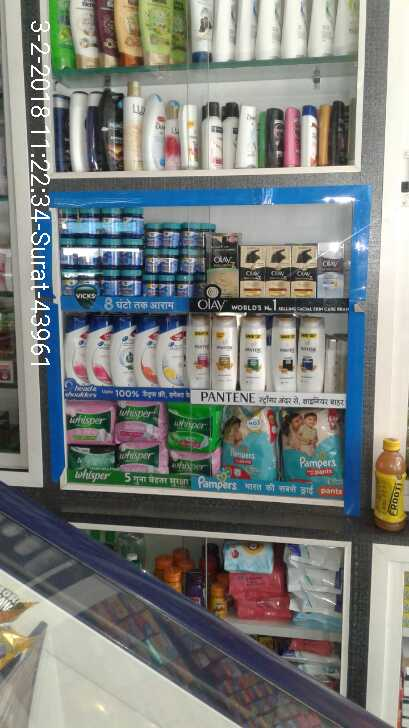beauty: (161, 317, 190, 388), (210, 234, 241, 299), (83, 320, 112, 388), (239, 317, 266, 389), (61, 314, 87, 386), (114, 316, 136, 389), (313, 244, 343, 297), (138, 315, 160, 384), (239, 245, 265, 303), (213, 320, 235, 386), (189, 317, 210, 386), (266, 244, 290, 298), (293, 246, 315, 301)
pharmacy: (56, 205, 197, 299), (215, 401, 279, 493), (277, 406, 339, 491), (61, 397, 115, 443), (172, 404, 213, 453), (115, 400, 160, 443)
